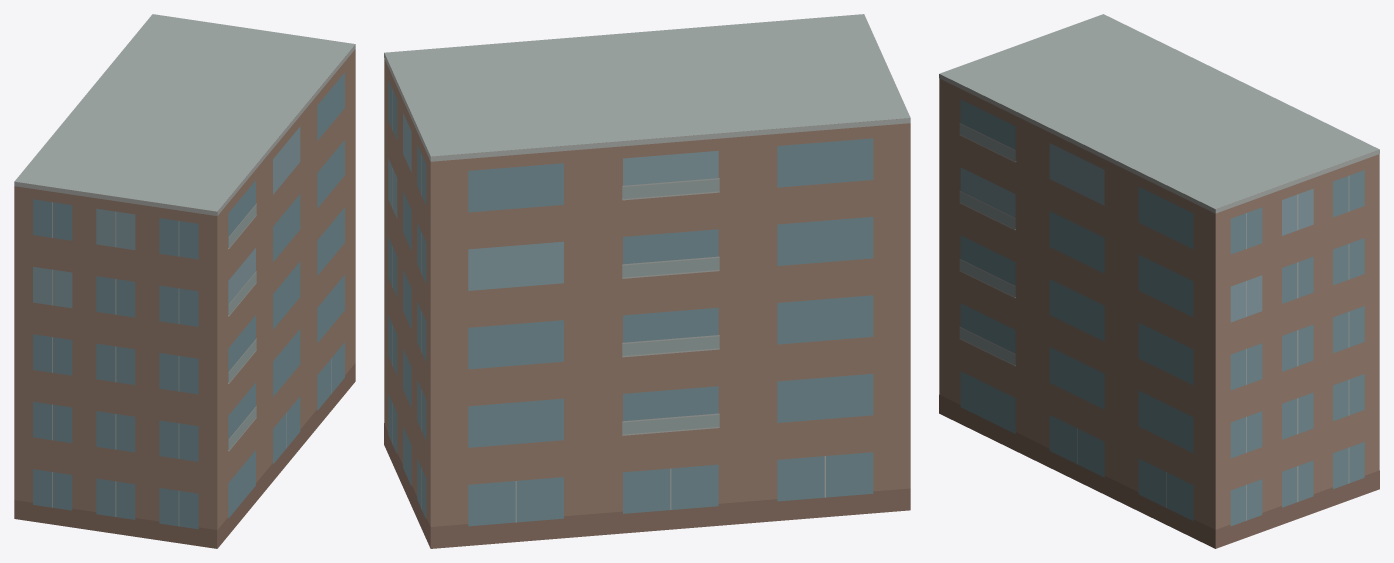
The model's file is survey-upis-32849034.glb.
The picture shows the model from 3 angles, left to right: view 1: azimuth 30°, elevation 25°; view 2: azimuth 150°, elevation 25°; view 3: azimuth 270°, elevation 25°; orthographic projection. The views are drawn at different scales.
Parts seen in each view (by area): view 1: survey-upis-32849034.tmp; view 2: survey-upis-32849034.tmp; view 3: survey-upis-32849034.tmp.
Part boxes in pixels (x1,y1,x2,y2): survey-upis-32849034.tmp: (14, 14, 355, 548); survey-upis-32849034.tmp: (384, 14, 910, 548); survey-upis-32849034.tmp: (939, 14, 1379, 548).
Size of the model in its own units: 22.6 by 18.34 by 21.57.
